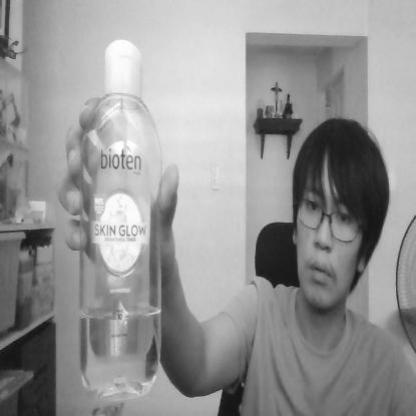Plastic Bottle: (72, 34, 169, 399)
